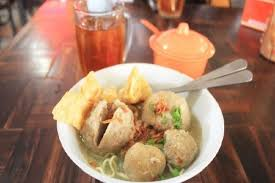bakso: (76, 74, 211, 178)
